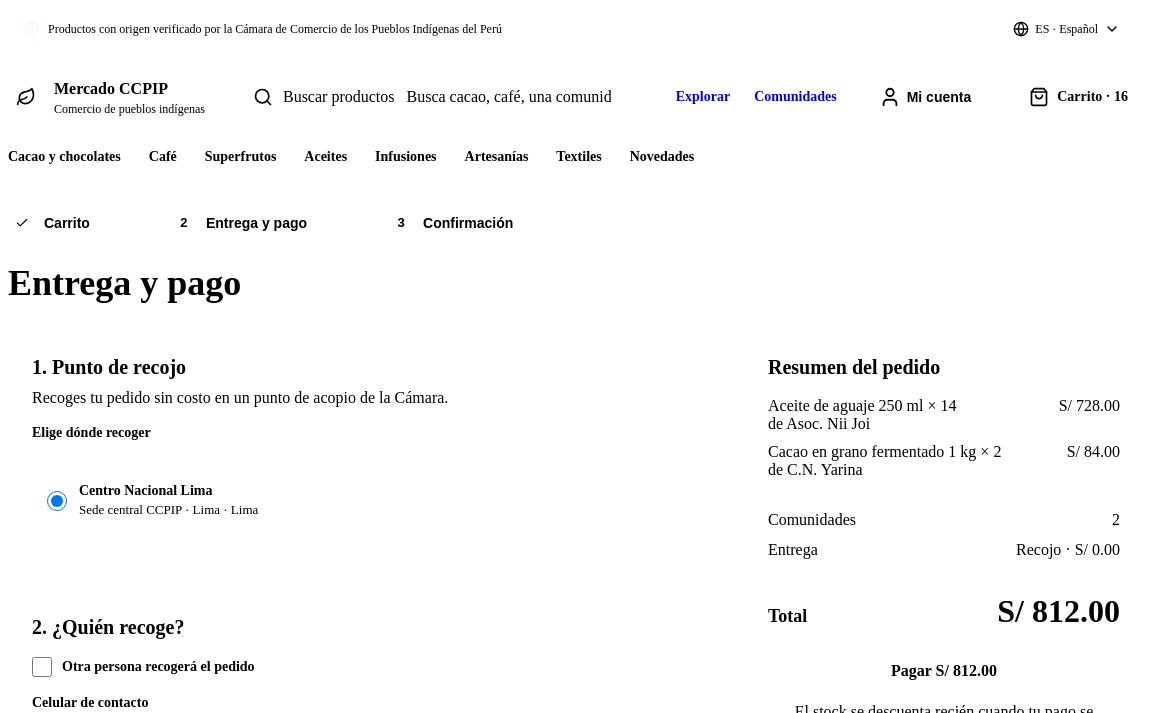
Test case: CW-05 Entrega y pago (CCPIP-157, CCPIP-62) y confirmación (CCPIP-64) › sin datos completos no envía nada y marca lo que falta
Click the button "Pagar S/ 812.00": (944, 671) [768,647,1120,695]
(page scrolled)
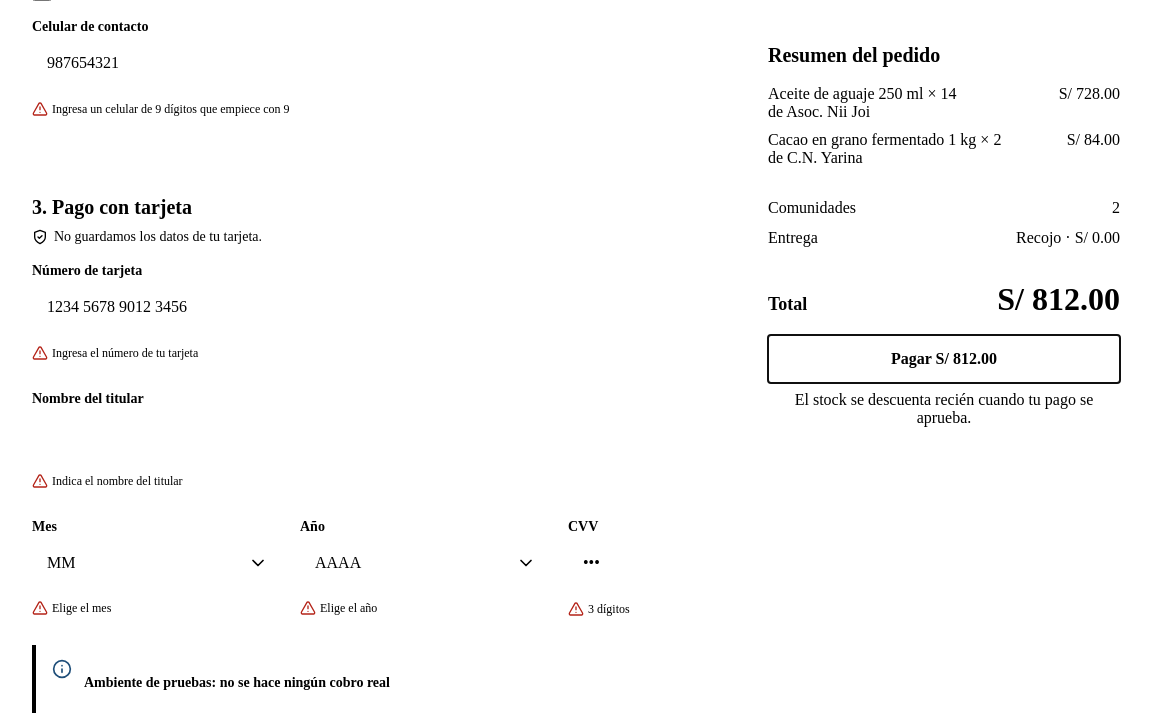
expect the text "Ingresa un celular de 9 dígitos que empiece con 9" is shown: met, box [32,101,290,117]
expect the text "Ingresa el número de tu tarjeta" is shown: met, box [32,345,198,361]
